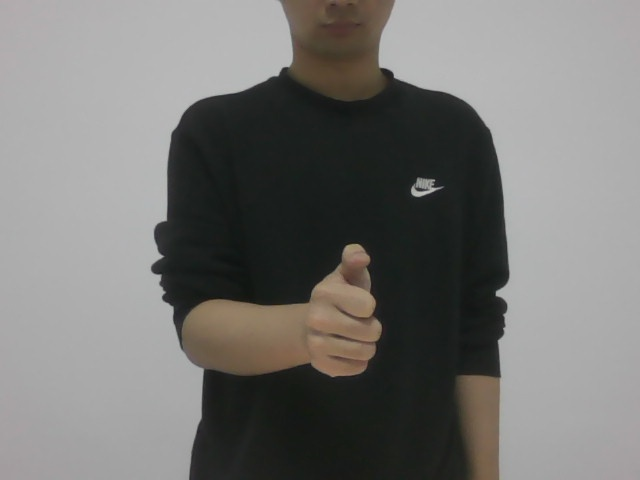thank you: (300, 239, 385, 390)
